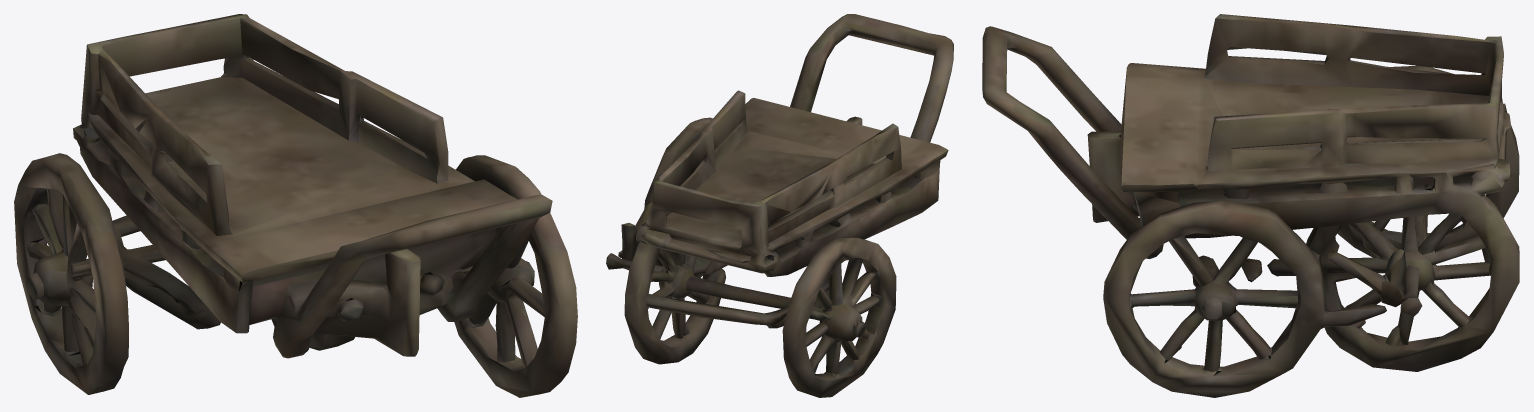
File: sturdy-wood-cart-v001.glb
The picture shows the model from 3 angles, left to right: view 1: azimuth 30°, elevation 25°; view 2: azimuth 150°, elevation 25°; view 3: azimuth 270°, elevation 25°; orthographic projection. The views are drawn at different scales.
Visible parts, largest first — view 1: sturdy-wood-cart; view 2: sturdy-wood-cart; view 3: sturdy-wood-cart.
Boxes of the visible parts, x1,y1,x2,y2 form: sturdy-wood-cart: [14, 14, 577, 397]; sturdy-wood-cart: [606, 14, 953, 397]; sturdy-wood-cart: [982, 14, 1519, 397].
Size of the model in its own units: 1.35 by 1.07 by 1.87.
Materials: 1 (1 with a texture image).
